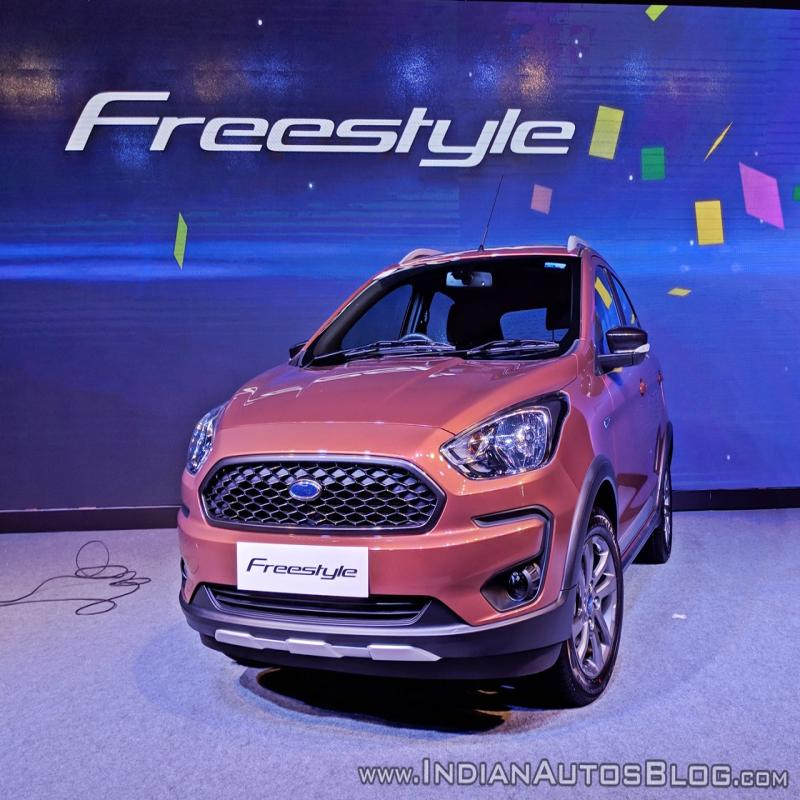car: (202, 265, 643, 695)
